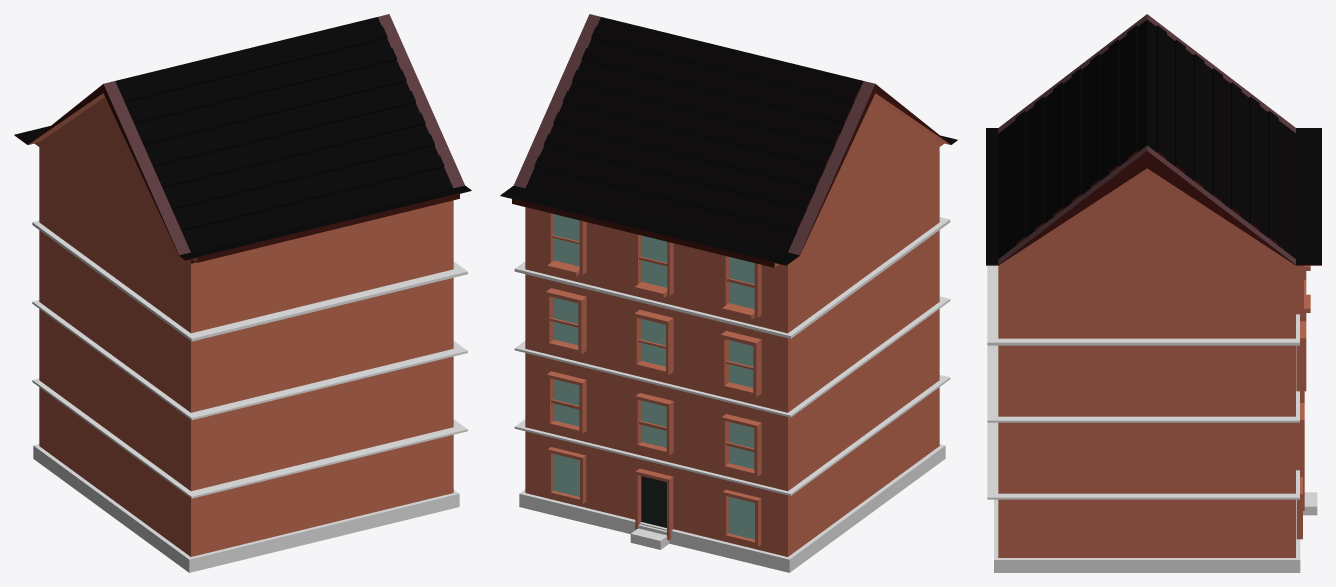
Rendered from House 1.fbx.
The picture shows the model from 3 angles, left to right: view 1: azimuth 30°, elevation 25°; view 2: azimuth 150°, elevation 25°; view 3: azimuth 270°, elevation 25°; orthographic projection.
Parts seen in each view (by area): view 1: Cube.014, Cube.176, Cube.037, Cube.036, Cube.038; view 2: Cube.014, Cube.175, Cube.176, Cube.037, Cube.036, Cube.038; view 3: Cube.014, Cube.176, Cube.037, Cube.036, Cube.038, Cube.175.
Part boxes in pixels (bbox=[...]): Cube.014: bbox=[14, 14, 471, 556]; Cube.176: bbox=[33, 444, 459, 572]; Cube.037: bbox=[32, 220, 467, 341]; Cube.036: bbox=[32, 300, 467, 420]; Cube.038: bbox=[32, 378, 467, 498]; Cube.014: bbox=[500, 14, 957, 556]; Cube.175: bbox=[546, 212, 761, 546]; Cube.176: bbox=[519, 444, 945, 572]; Cube.037: bbox=[514, 217, 950, 338]; Cube.036: bbox=[514, 296, 950, 417]; Cube.038: bbox=[514, 375, 950, 495]; Cube.014: bbox=[986, 14, 1321, 557]; Cube.176: bbox=[994, 492, 1317, 572]; Cube.037: bbox=[987, 265, 1299, 345]; Cube.036: bbox=[987, 345, 1299, 422]; Cube.038: bbox=[987, 422, 1299, 499]; Cube.175: bbox=[1296, 265, 1310, 539].
Bounding box in the file's own units: 179 × 260 × 186.
